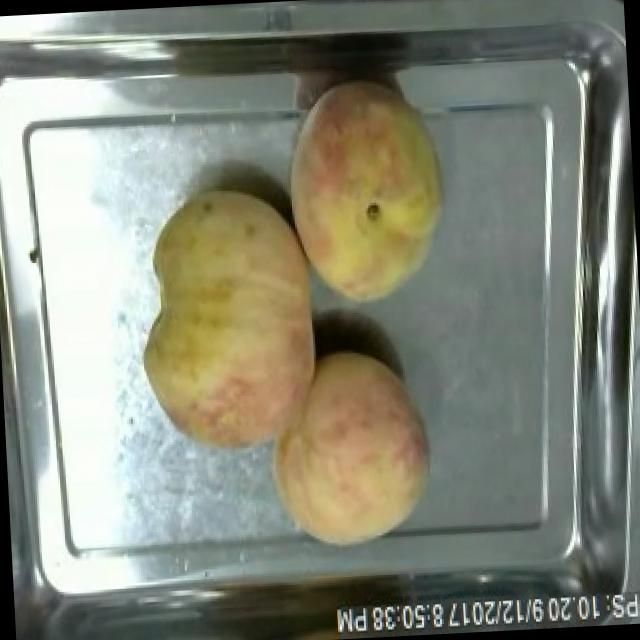Fruit: (133, 176, 329, 463), (275, 70, 457, 309), (255, 341, 442, 561)
